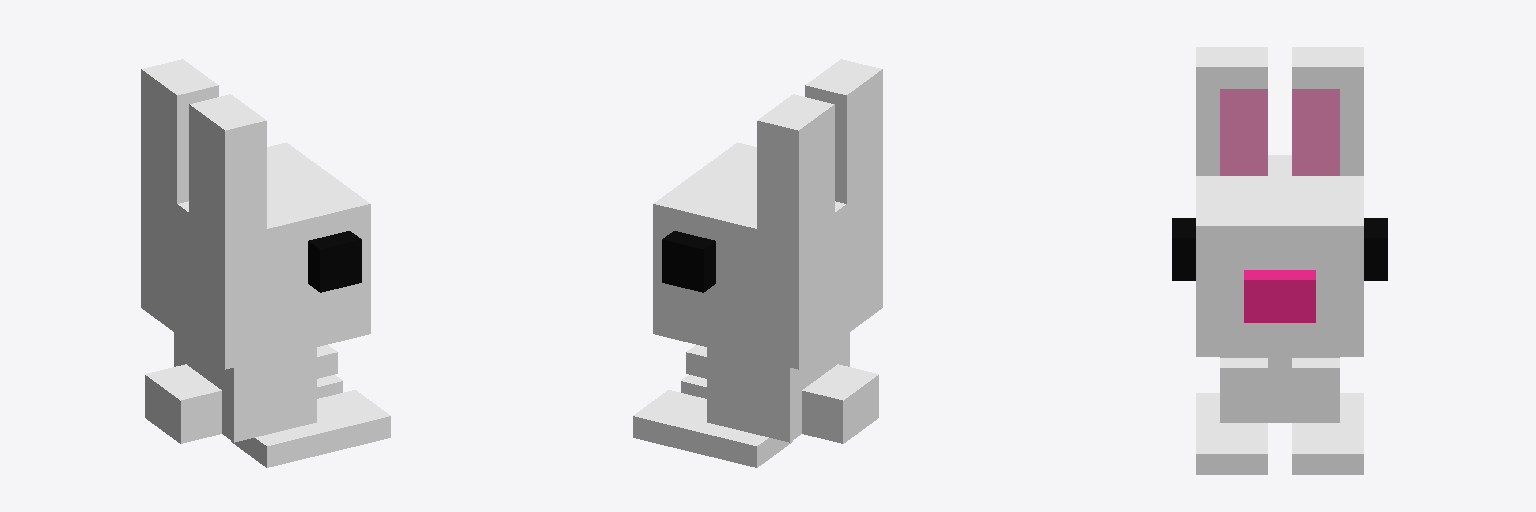
3 views of the same model, side by side, from view 1: azimuth 30°, elevation 25°; view 2: azimuth 150°, elevation 25°; view 3: azimuth 270°, elevation 25° (orthographic).
Visible parts, largest first — view 1: bunny; view 2: bunny; view 3: bunny.
Boxes of the visible parts, x1=… form: bunny: x1=141, y1=59, x2=390, y2=467; bunny: x1=633, y1=59, x2=882, y2=467; bunny: x1=1172, y1=47, x2=1387, y2=474.
Bounding box in the file's own units: 0.9 × 1.6 × 0.9.
Materials: 1 (1 with a texture image).